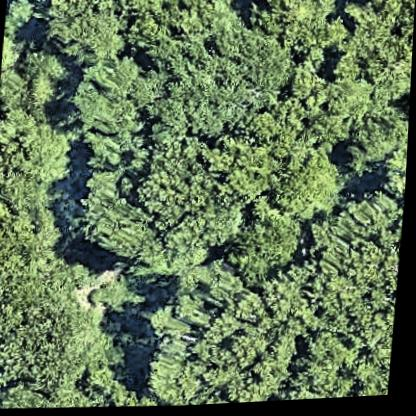tree-top: (157, 257, 304, 409), (0, 252, 112, 407), (312, 195, 407, 323), (137, 149, 233, 264), (68, 168, 159, 272), (164, 53, 269, 142), (126, 0, 235, 73), (275, 71, 364, 160), (336, 8, 415, 103), (0, 115, 73, 217), (66, 53, 152, 139), (42, 0, 130, 68), (272, 150, 350, 225), (214, 131, 284, 210), (232, 207, 307, 280), (291, 337, 364, 403), (344, 105, 411, 175), (0, 198, 64, 263), (371, 124, 410, 205), (249, 0, 329, 38), (0, 378, 62, 411), (382, 143, 409, 207), (3, 0, 37, 38), (351, 0, 413, 14), (0, 347, 4, 409)
